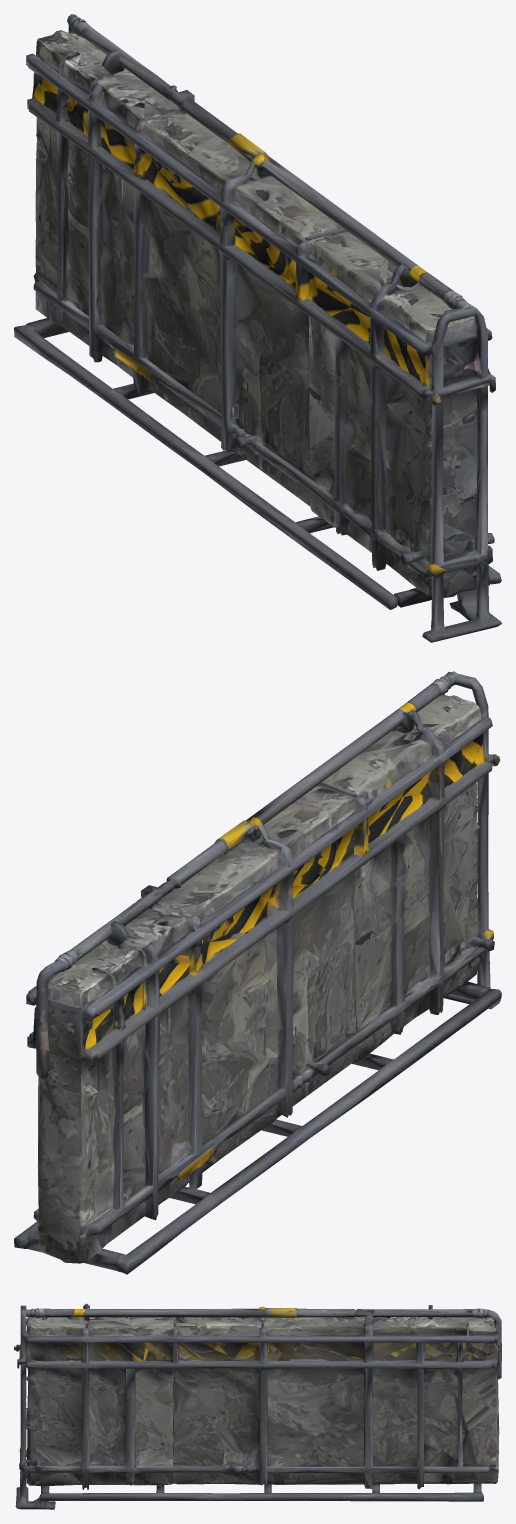
Rendered from wal_ind.fbx.
The picture shows the model from 3 angles, top to bottom: view 1: azimuth 30°, elevation 25°; view 2: azimuth 150°, elevation 25°; view 3: azimuth 270°, elevation 25°; orthographic projection. The views are drawn at different scales.
Visible parts, largest first — view 1: wal_ind_LOD0; view 2: wal_ind_LOD0; view 3: wal_ind_LOD0.
Boxes of the visible parts, x1,y1,x2,y2 form: wal_ind_LOD0: [14, 14, 501, 642]; wal_ind_LOD0: [14, 671, 501, 1274]; wal_ind_LOD0: [14, 1303, 501, 1509].
Size of what is drawn, in the model's own units: 0.1546 by 0.4304 by 0.9791.
